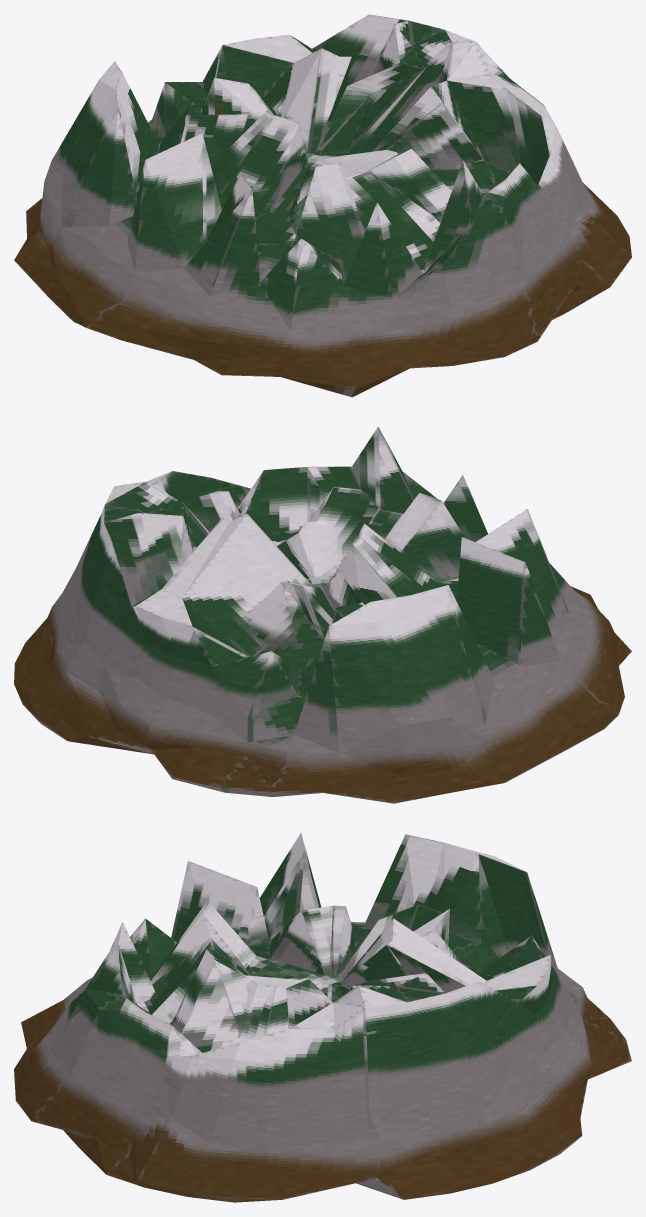
The model's file is mountain.glb.
The picture shows the model from 3 angles, top to bottom: view 1: azimuth 30°, elevation 25°; view 2: azimuth 150°, elevation 25°; view 3: azimuth 270°, elevation 25°; orthographic projection. The views are drawn at different scales.
Parts seen in each view (by area): view 1: Sphere; view 2: Sphere; view 3: Sphere.
Part boxes in pixels (left/top/right/bottom): Sphere: left=14, top=14, right=631, bottom=397; Sphere: left=14, top=426, right=631, bottom=803; Sphere: left=14, top=832, right=631, bottom=1202.
Size of the model in its own units: 378 by 141 by 378.
Materials: 1 (1 with a texture image).
